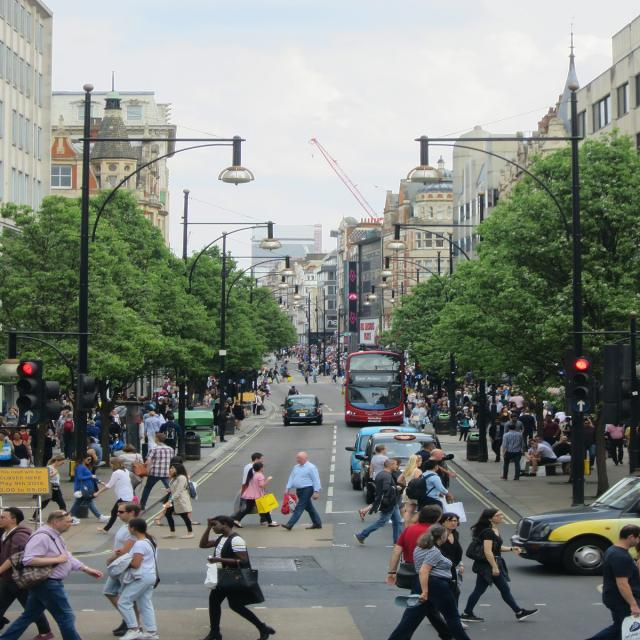body: (1, 342, 610, 441), (86, 437, 283, 640), (0, 508, 105, 640), (196, 514, 278, 640), (458, 506, 540, 624), (385, 504, 456, 640), (388, 523, 470, 640), (0, 504, 56, 640), (584, 523, 640, 640), (100, 499, 145, 636), (112, 516, 160, 640), (354, 457, 403, 546), (92, 457, 144, 534), (132, 432, 182, 511), (152, 454, 203, 528), (278, 451, 324, 532), (437, 512, 469, 628), (28, 455, 80, 525), (230, 460, 282, 528), (230, 452, 277, 527), (68, 452, 112, 522), (159, 462, 197, 541), (404, 458, 455, 514), (396, 454, 424, 530), (375, 458, 404, 523), (498, 422, 526, 482), (420, 448, 459, 491), (518, 438, 557, 477), (116, 444, 146, 491), (603, 415, 626, 467), (158, 414, 182, 459), (414, 441, 446, 474), (367, 444, 389, 488), (57, 412, 76, 461), (519, 407, 538, 453), (452, 405, 475, 443), (623, 416, 640, 466), (36, 427, 57, 467), (0, 429, 22, 467), (11, 430, 33, 468), (581, 419, 597, 471), (488, 417, 506, 463), (525, 434, 554, 461), (552, 438, 572, 476), (144, 410, 162, 452), (542, 413, 562, 448), (54, 409, 70, 452), (215, 404, 230, 443), (27, 423, 41, 463), (408, 402, 426, 432), (231, 398, 247, 430), (428, 398, 443, 432), (85, 438, 99, 474), (503, 414, 525, 436), (0, 411, 13, 442), (434, 400, 452, 418), (86, 419, 101, 440), (4, 406, 19, 426), (17, 422, 30, 442), (250, 389, 259, 416), (256, 381, 267, 403), (632, 541, 640, 568), (404, 404, 414, 425), (271, 366, 282, 384), (551, 436, 567, 448), (262, 381, 272, 400), (10, 406, 19, 426), (256, 391, 263, 415), (0, 616, 11, 631), (287, 384, 300, 396), (246, 389, 253, 411), (282, 367, 292, 382), (311, 366, 319, 384), (302, 368, 310, 386), (278, 364, 286, 382), (2, 399, 9, 417), (224, 401, 233, 414), (266, 368, 274, 378), (212, 394, 220, 401)
